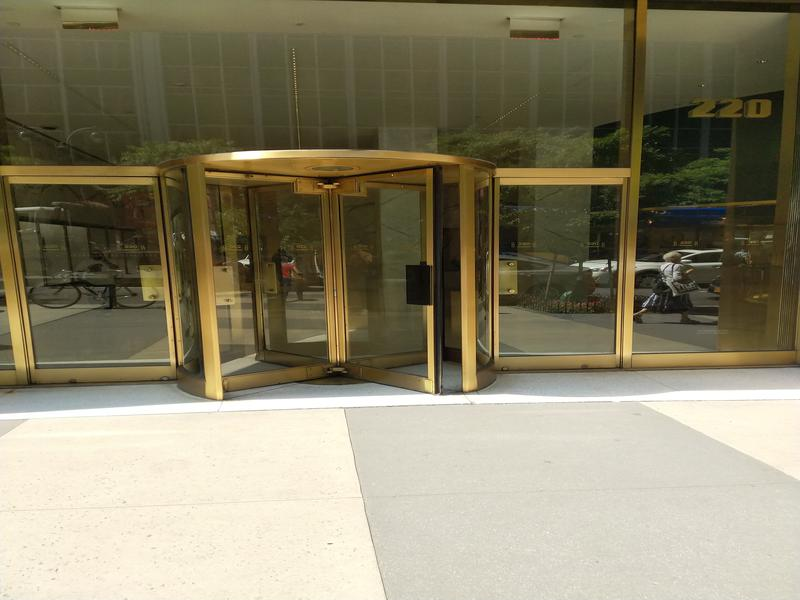door: (3, 147, 157, 409), (502, 154, 637, 380)
revolving_door: (162, 139, 490, 405)
